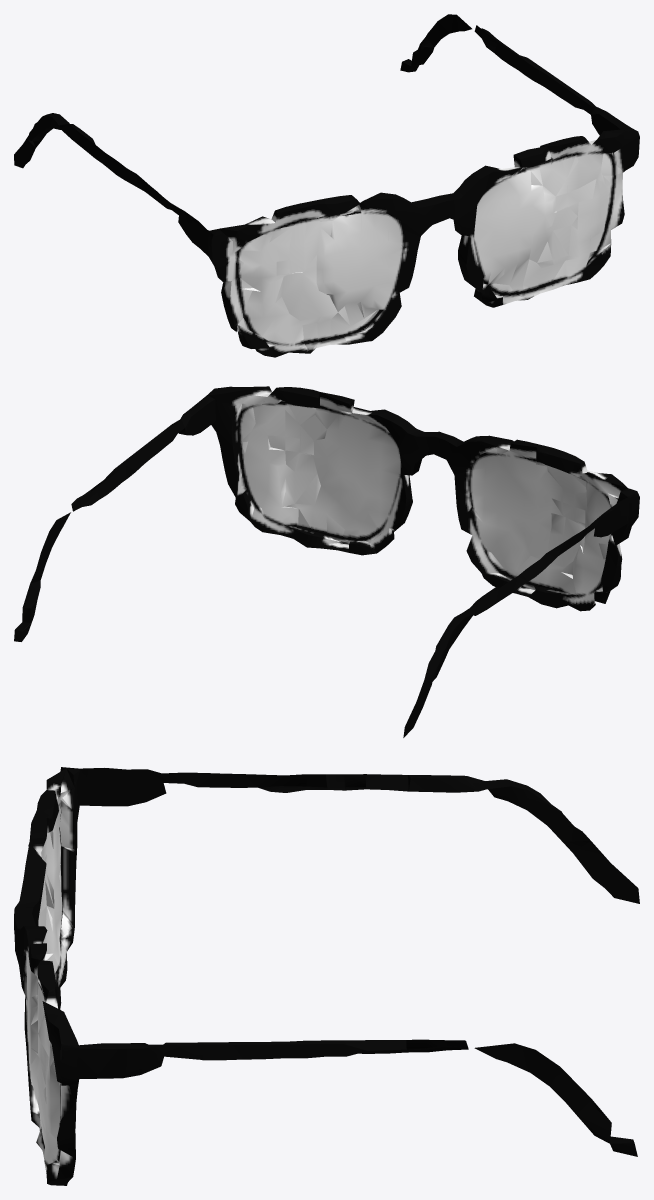
File: wear_frames.glb
3 renders of one model, top to bottom at view 1: azimuth 30°, elevation 25°; view 2: azimuth 150°, elevation 25°; view 3: azimuth 270°, elevation 25°, orthographic. The views are drawn at different scales.
Parts seen in each view (by area): view 1: mesh; view 2: mesh; view 3: mesh.
Boxes of the visible parts, x1,y1,x2,y2 form: mesh: (14,14,639,357); mesh: (14,386,639,737); mesh: (14,767,639,1185).
Size of the model in its own units: 0.1471 by 0.05 by 0.1395.
Materials: 1 (1 with a texture image).
